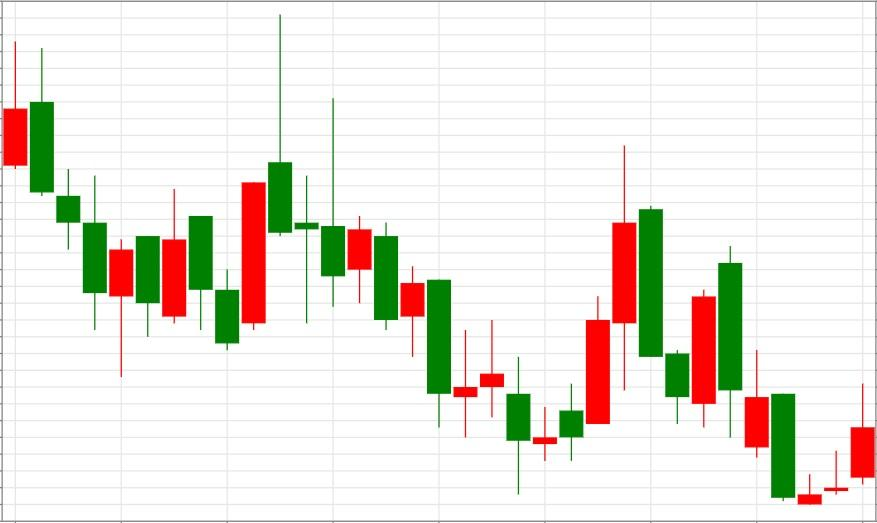shooting_star_fall: (214, 15, 293, 350)
